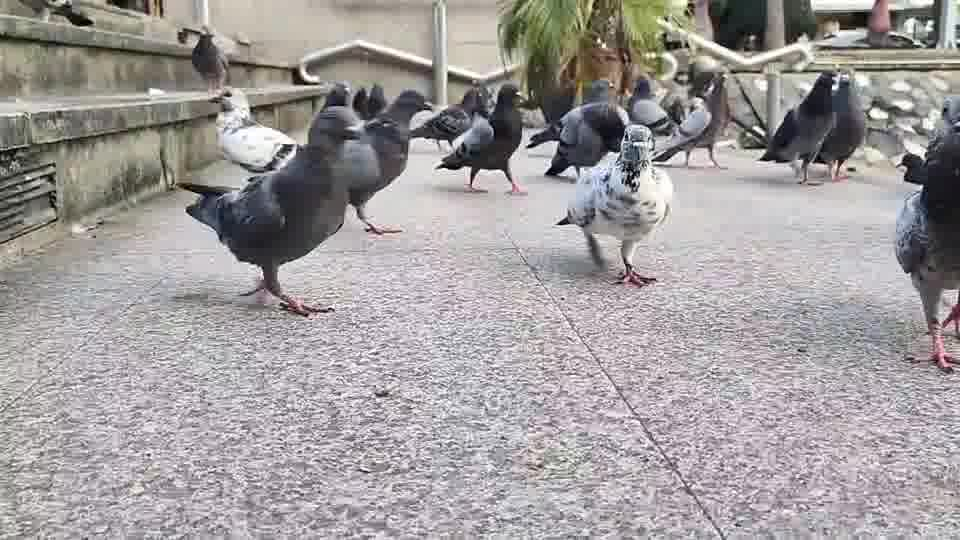Pigeon: (180, 103, 368, 317), (552, 123, 673, 288), (893, 94, 959, 374), (433, 83, 527, 194), (757, 69, 837, 184), (526, 99, 631, 180), (212, 89, 298, 173), (805, 69, 865, 182), (409, 82, 490, 151), (190, 25, 231, 102), (43, 0, 95, 27)
